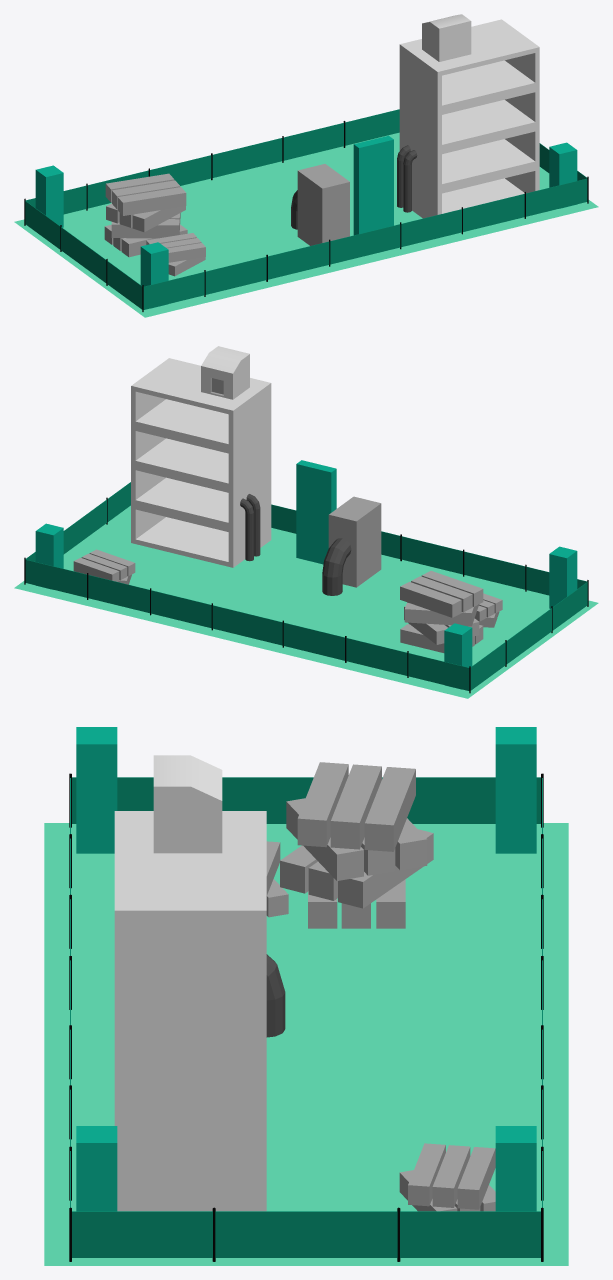
File: 105_green.fbx
The picture shows the model from 3 angles, top to bottom: view 1: azimuth 30°, elevation 25°; view 2: azimuth 150°, elevation 25°; view 3: azimuth 270°, elevation 25°; orthographic projection. The views are drawn at different scales.
Visible parts, largest first — view 1: pCube229, ten_ght1, pCube228 (×4), pCube227 (×3), pCube233, pCube234, pCube241, pCube260, pCube261, pCube265, pCube256, pCube262 (+16 smaller); view 2: ten_ght1, pCube229, pCube234, pCube233, pCube228 (×3), pCube241, pCube227 (×2), pCube260, pCube262, pCube258, pCube257, pCube259 (+20 smaller); view 3: ten_ght1, pCube229, pCube268, pCube241, pCube225, pCube226, pCube265, pCube264, pCube271, pCube266, pCube267, pCube243 (+17 smaller).
Part boxes in pixels (x1,y1,x2,y2): pCube229: [399, 19, 539, 218]; ten_ght1: [14, 132, 598, 317]; pCube228 (×4): [143, 178, 587, 309]; pCube227 (×3): [205, 194, 524, 294]; pCube233: [297, 164, 349, 245]; pCube234: [353, 135, 393, 235]; pCube241: [422, 14, 471, 61]; pCube260: [212, 138, 282, 177]; pCube261: [283, 123, 343, 160]; pCube265: [35, 165, 63, 227]; pCube256: [117, 187, 186, 215]; pCube262: [345, 109, 399, 145]; ten_ght1: [14, 505, 598, 698]; pCube229: [131, 358, 271, 567]; pCube234: [296, 460, 336, 564]; pCube233: [328, 496, 381, 587]; pCube228 (×3): [271, 504, 587, 595]; pCube241: [201, 346, 249, 399]; pCube227 (×2): [381, 531, 525, 589]; pCube260: [212, 605, 282, 645]; pCube262: [88, 575, 149, 613]; pCube258: [346, 638, 407, 675]; pCube257: [408, 653, 469, 690]; pCube259: [283, 622, 344, 660]; ten_ght1: [44, 823, 568, 1265]; pCube229: [114, 811, 266, 1211]; pCube268: [215, 1211, 397, 1257]; pCube241: [153, 755, 222, 853]; pCube225: [400, 1211, 540, 1257]; pCube226: [72, 1211, 212, 1257]; pCube265: [495, 727, 536, 853]; pCube264: [76, 727, 117, 853]; pCube271: [407, 777, 540, 823]; pCube266: [495, 1126, 536, 1211]; pCube267: [76, 1126, 117, 1211]; pCube243: [364, 767, 415, 851].
Bounding box in the file's own units: 10 × 4.01 × 5.
